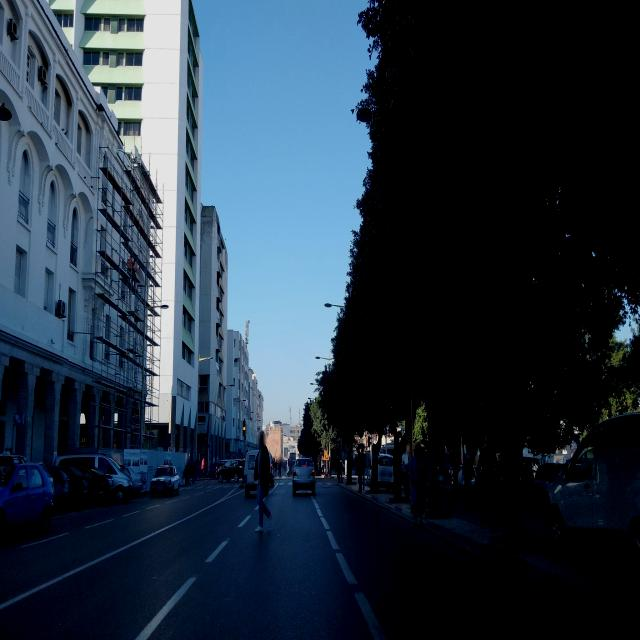car: (546, 407, 640, 573), (0, 456, 54, 544), (58, 463, 108, 507), (93, 454, 131, 502), (57, 464, 94, 510), (244, 443, 275, 496), (365, 454, 407, 489), (46, 463, 71, 512), (150, 462, 180, 497), (292, 455, 316, 497), (119, 462, 145, 497), (217, 459, 232, 482), (208, 458, 219, 478)
